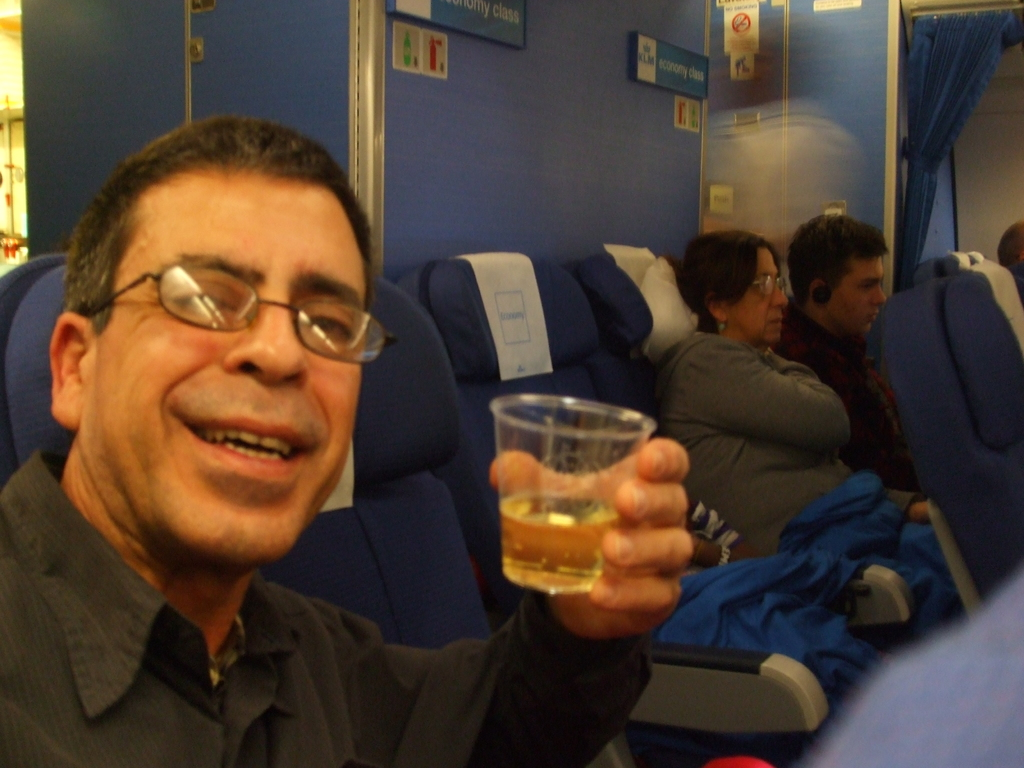Beer: (506, 492, 616, 593)
